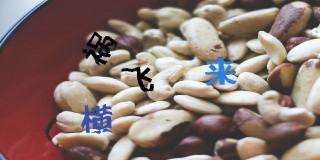来: (205, 56, 238, 86)
横: (80, 103, 113, 134)
祸: (82, 31, 117, 65)
飞: (119, 66, 154, 92)
